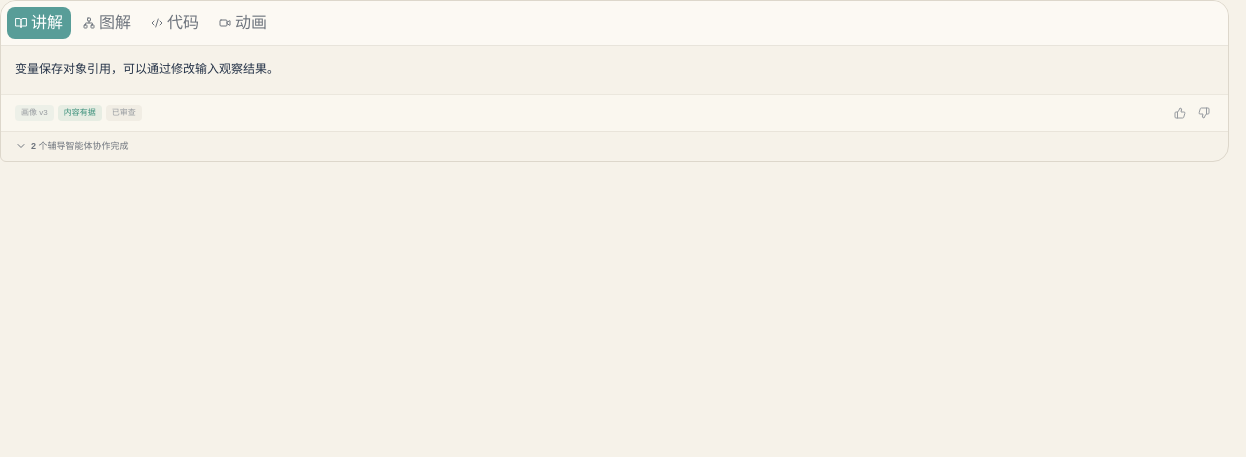
Test: TutorRichResponse › renders flow with its own visual grammar
Click the button "图解" at coordinates (107, 23), box [75,7,139,39]
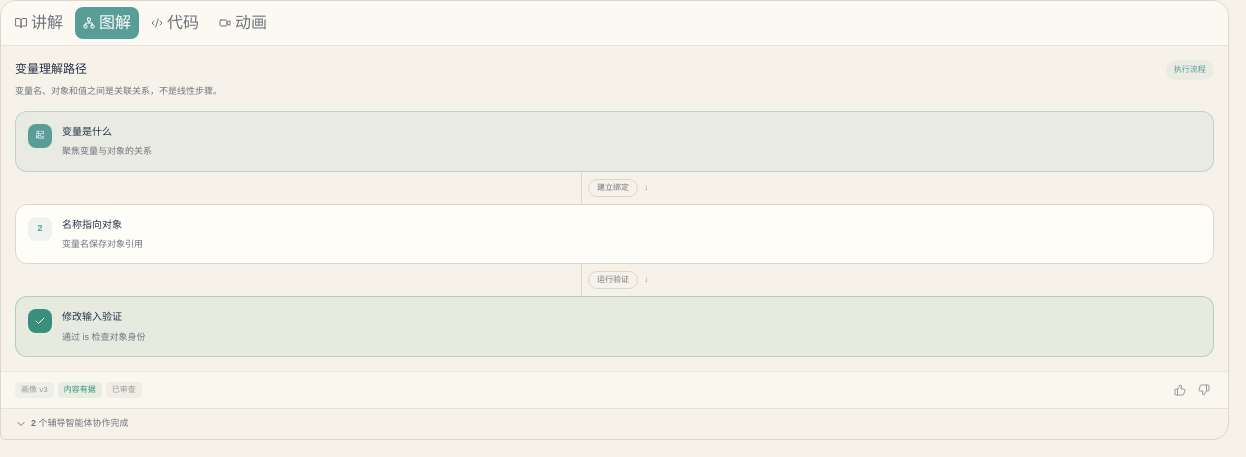
Check: the element named "执行流程图" is shown, box [15,111,1214,357]
Check: the text "执行流程" is shown, box [1166,60,1214,80]
